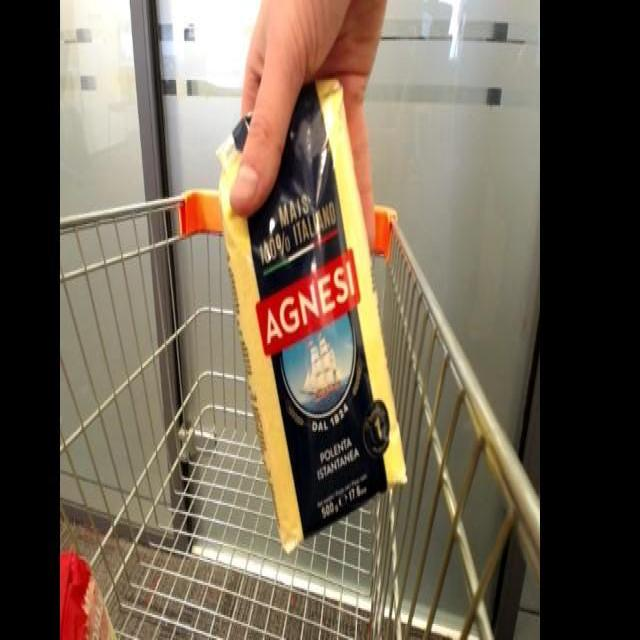Agnesi Polenta: (214, 70, 412, 559)
